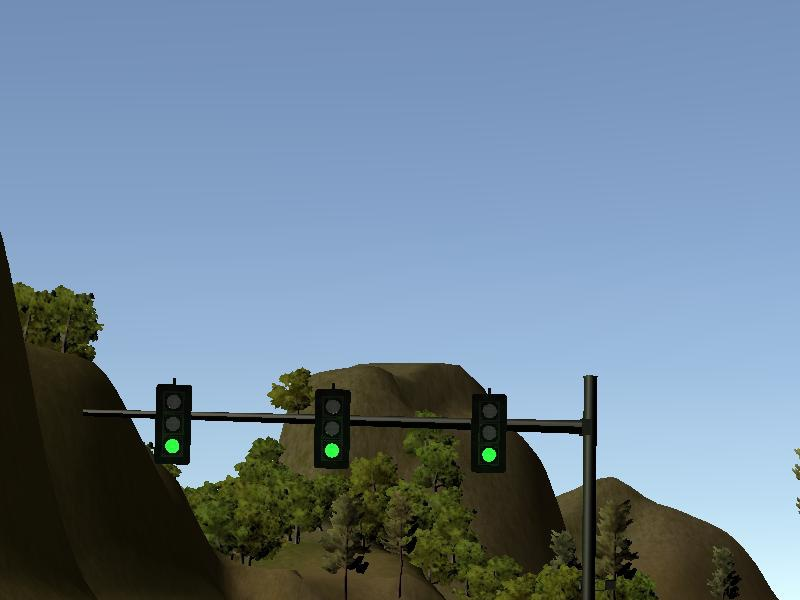Green: (156, 384, 191, 463), (471, 394, 505, 472), (316, 391, 349, 466)
